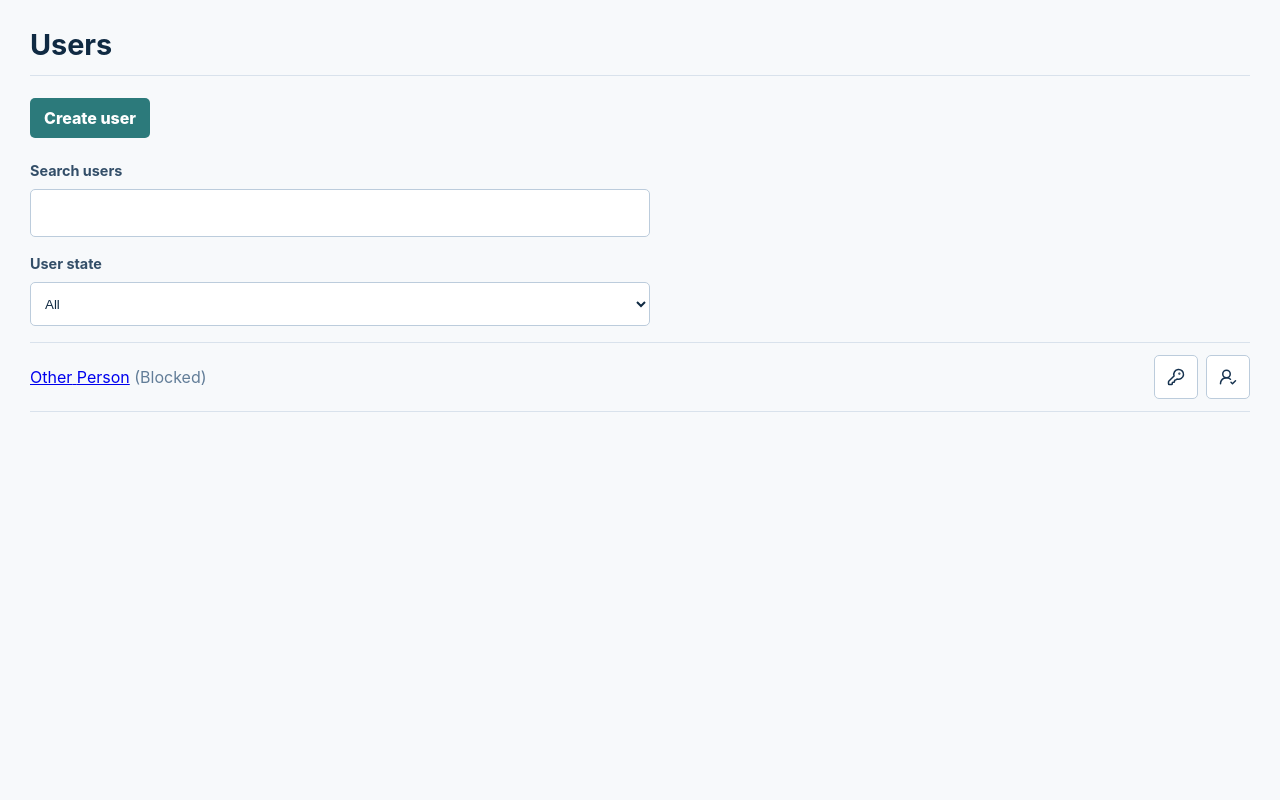
resets a password once, then unblocks and refreshes the directory
This screenshot has width=1280, height=800.
What coordinates should you click on to do the following:
click the button named "Reset password for Other Person"
I would click on:
 (1176, 377)
Its box is [1154,355,1198,399].
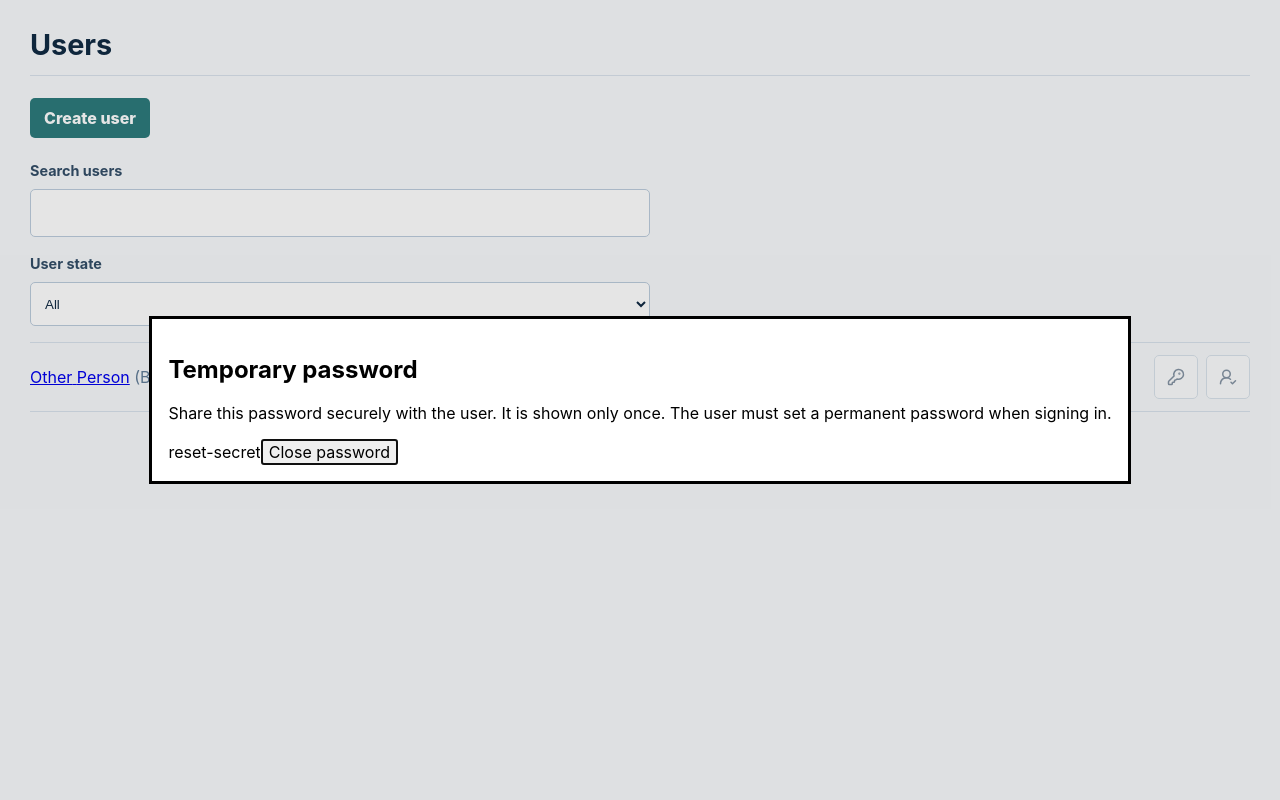
Check: the text named "Generated password" reads "reset-secret", box [168,442,261,462]
Check: the button named "Reset password for Other Person" is disabled, box [1154,355,1198,399]
What coordinates should you click on to do the following:
click the button "Close password"
I would click on:
 (329, 452)
Its box is [261,439,398,465].
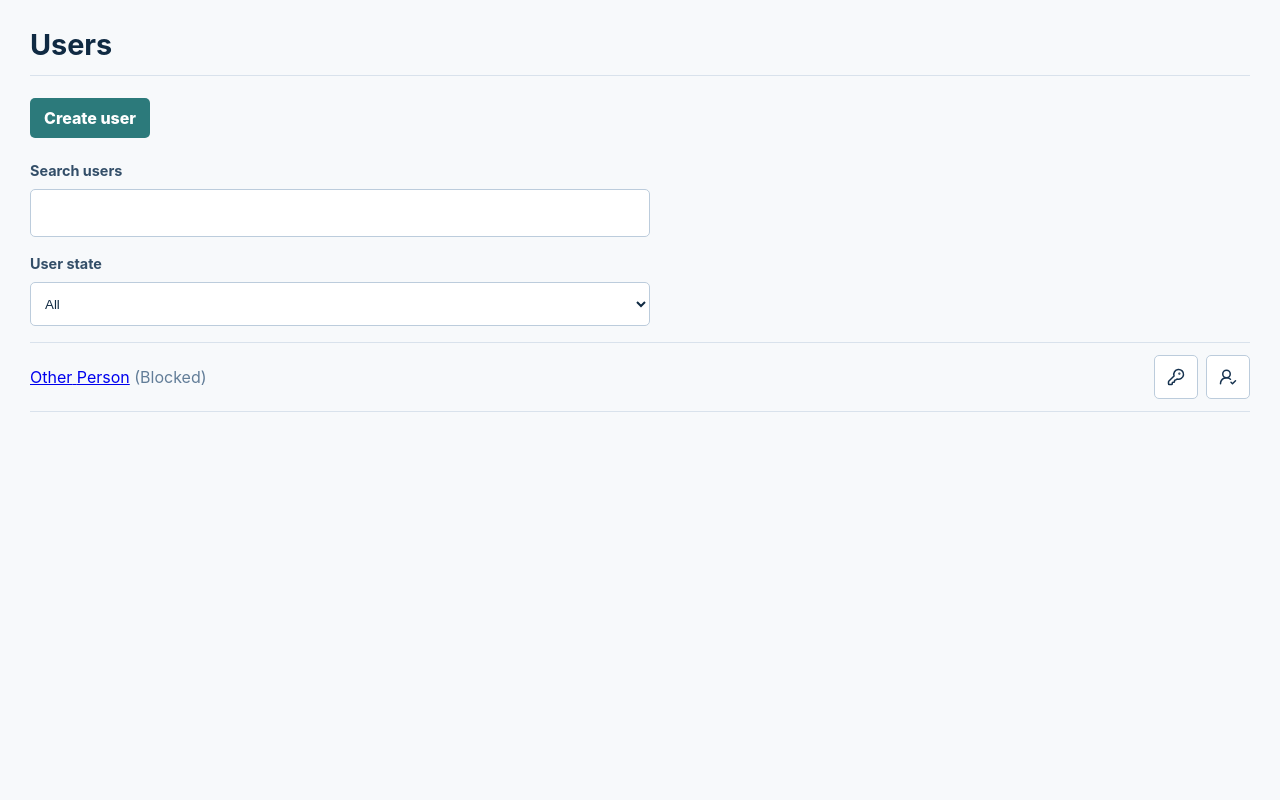
Check: the text "reset-secret" is gone
What coordinates should you click on to do the following:
click the button named "Unblock Other Person"
I would click on:
 (1228, 377)
Its box is [1206,355,1250,399].
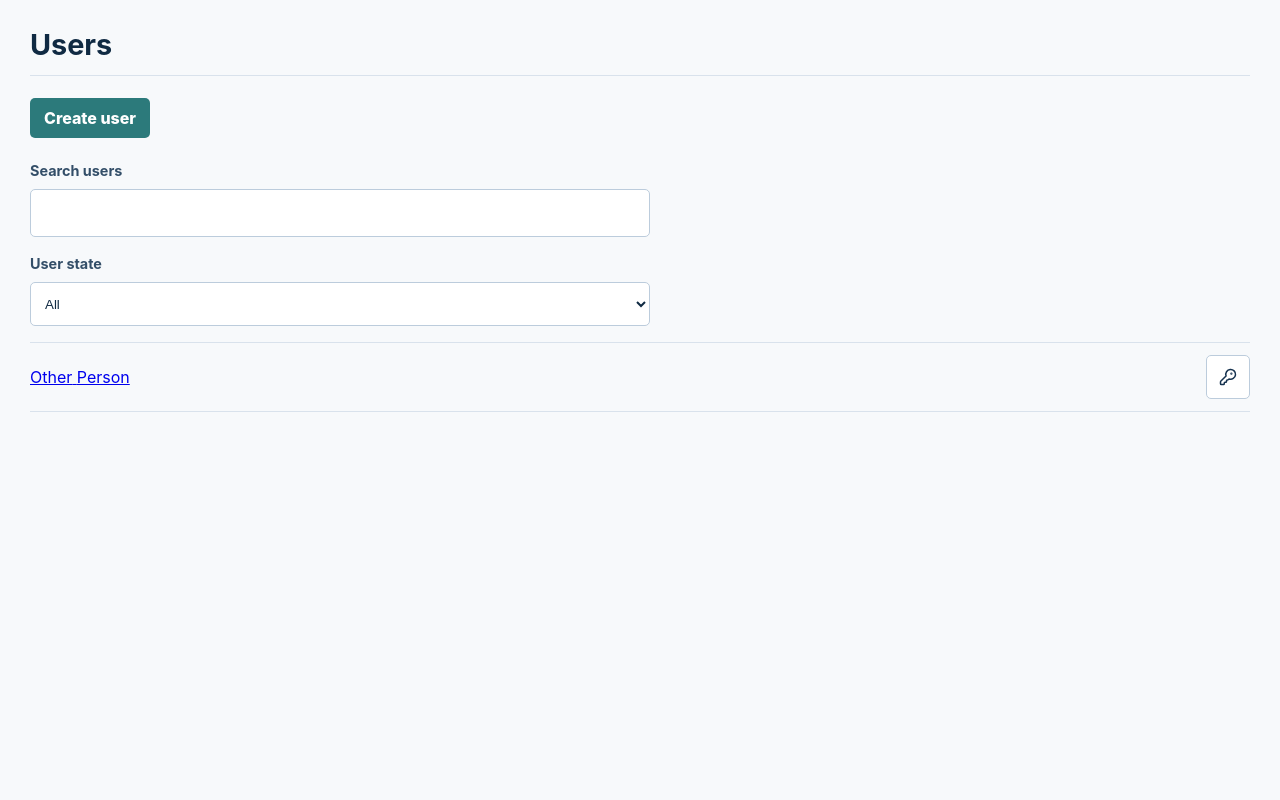
Check: the text "(Blocked)" is gone
